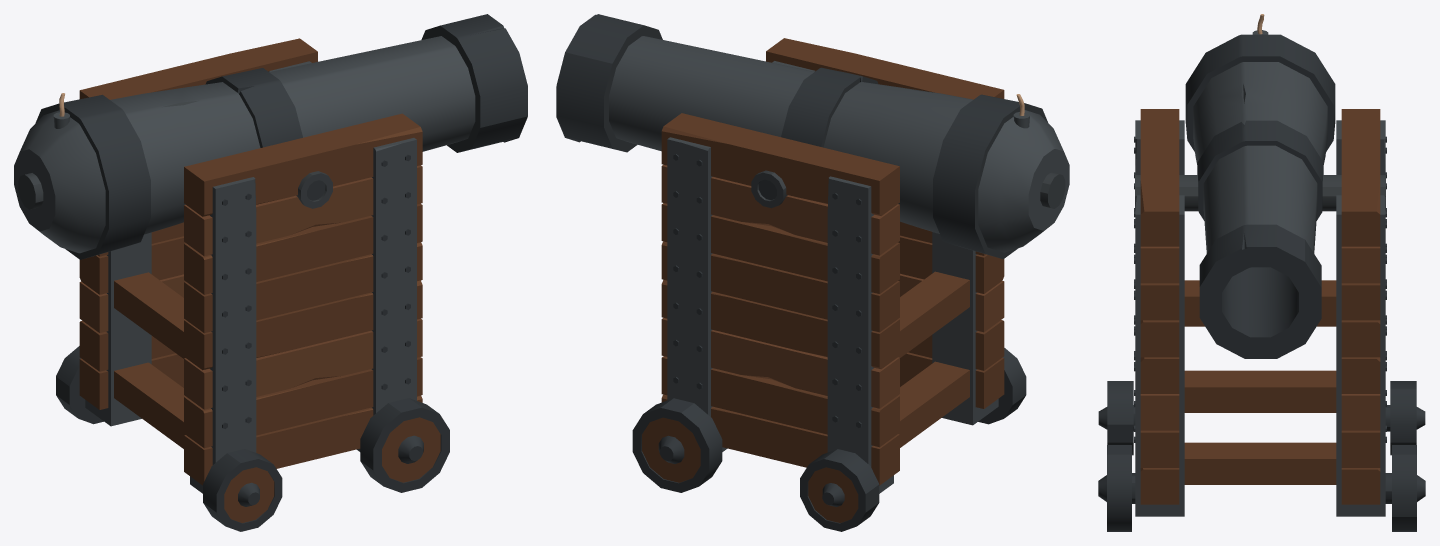
File: Cannon_LOD0.glb
The picture shows the model from 3 angles, left to right: view 1: azimuth 30°, elevation 25°; view 2: azimuth 150°, elevation 25°; view 3: azimuth 270°, elevation 25°; orthographic projection. The views are drawn at different scales.
Visible parts, largest first — view 1: Cannon_01_1_LOD0, Cannon_01_2_LOD0, Cannon_01_Wheel4_LOD0, Cannon_01_Wheel2_LOD0, Cannon_01_Wheel1_LOD0; view 2: Cannon_01_1_LOD0, Cannon_01_2_LOD0, Cannon_01_Wheel3_LOD0, Cannon_01_Wheel1_LOD0, Cannon_01_Wheel2_LOD0; view 3: Cannon_01_1_LOD0, Cannon_01_2_LOD0, Cannon_01_Wheel3_LOD0, Cannon_01_Wheel4_LOD0, Cannon_01_Wheel1_LOD0, Cannon_01_Wheel2_LOD0.
Part boxes in pixels (<box>): Cannon_01_1_LOD0: <box>79,38,422,493</box>; Cannon_01_2_LOD0: <box>14,14,527,259</box>; Cannon_01_Wheel4_LOD0: <box>360,398,449,492</box>; Cannon_01_Wheel2_LOD0: <box>203,449,282,531</box>; Cannon_01_Wheel1_LOD0: <box>56,346,103,424</box>; Cannon_01_1_LOD0: <box>661,38,1004,493</box>; Cannon_01_2_LOD0: <box>556,14,1069,259</box>; Cannon_01_Wheel3_LOD0: <box>632,398,722,492</box>; Cannon_01_Wheel1_LOD0: <box>800,449,879,531</box>; Cannon_01_Wheel2_LOD0: <box>978,348,1026,424</box>; Cannon_01_1_LOD0: <box>1134,109,1386,516</box>; Cannon_01_2_LOD0: <box>1135,14,1385,358</box>; Cannon_01_Wheel3_LOD0: <box>1385,445,1425,531</box>; Cannon_01_Wheel4_LOD0: <box>1098,445,1135,531</box>; Cannon_01_Wheel1_LOD0: <box>1385,381,1425,455</box>; Cannon_01_Wheel2_LOD0: <box>1098,381,1135,455</box>.
Size of the model in its own units: 1.89 by 1.55 by 1.19.
Materials: 1 (1 with a texture image).
